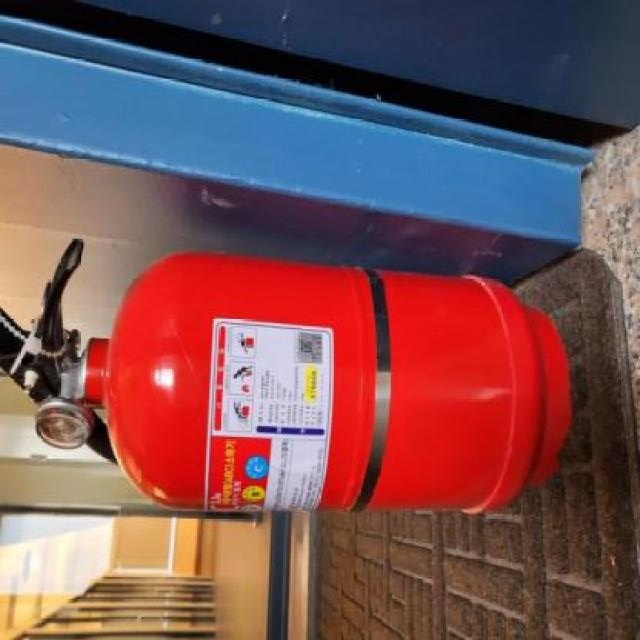fire extinguisher: (0, 238, 569, 516)
